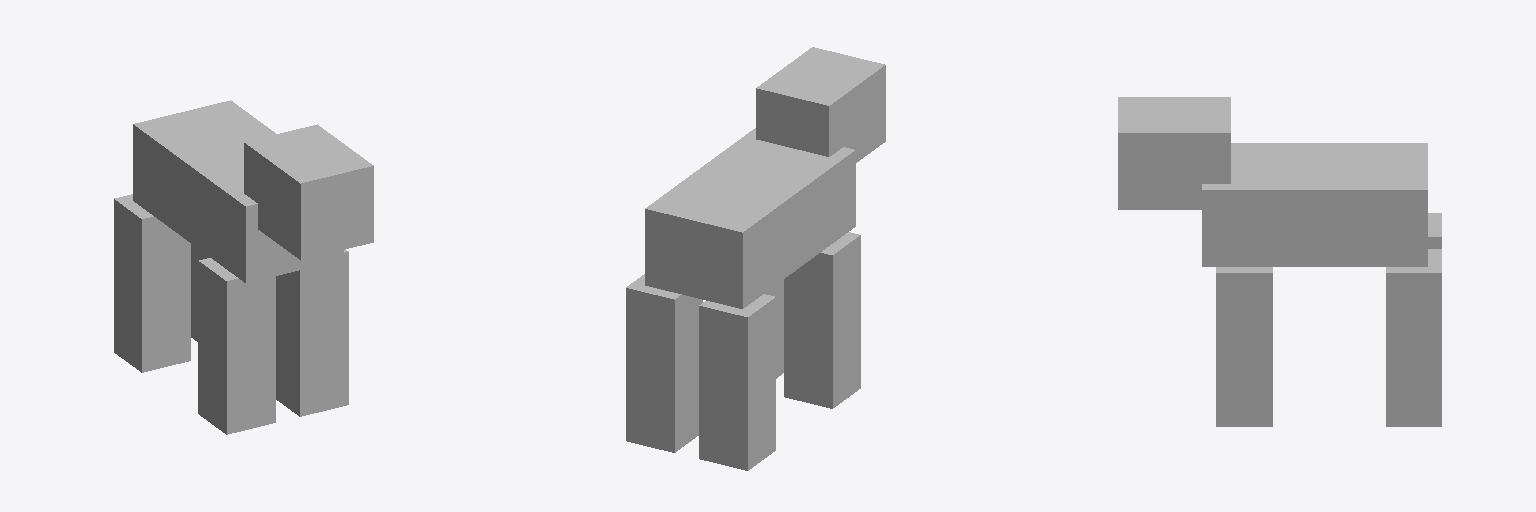
File: sheep2.obj
3 renders of one model, left to right at view 1: azimuth 30°, elevation 25°; view 2: azimuth 150°, elevation 25°; view 3: azimuth 270°, elevation 25°, orthographic.
Parts seen in each view (by area): view 1: Sheep_Sheep_0.001; view 2: Sheep_Sheep_0.001; view 3: Sheep_Sheep_0.001.
Part boxes in pixels (x1,y1,x2,y2): Sheep_Sheep_0.001: (114,100,373,434); Sheep_Sheep_0.001: (626,47,885,470); Sheep_Sheep_0.001: (1118,97,1441,426).
Size of the model in its own units: 10 by 22 by 23.